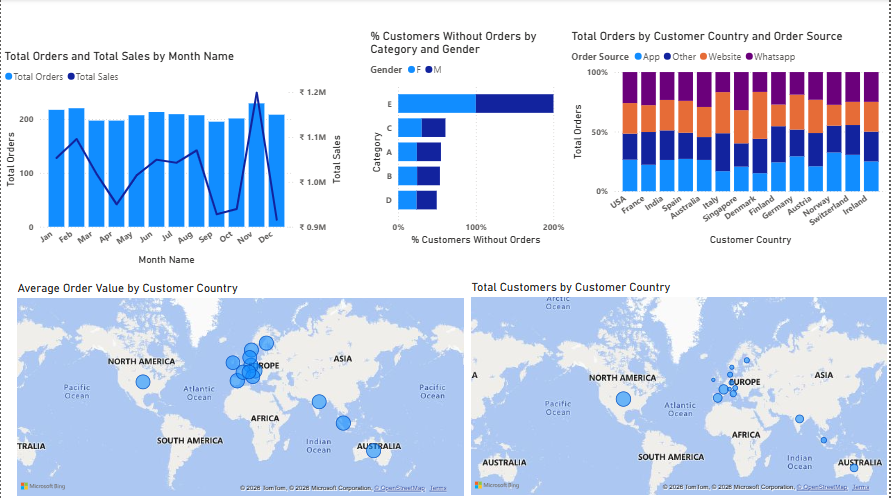

Layout of this report page (visuals, bound fields, positions):
{"tool":"powerbi","page":{"name":"Orders","canvas":[1280,720],"ordinal":2},"visuals":[{"type":"lineClusteredColumnComboChart","fields":{"Category":["Orders.Month Name"],"Y":["Measures_List.Total Orders"],"Y2":["Measures_List.Total Sales"]},"box":[0,71.8,495,316.3],"z":0},{"type":"map","fields":{"Category":["Customers.Customer Country"],"Size":["Measures_List.Average Order Value"]},"box":[19,405.7,653.2,314.9],"z":1000},{"type":"map","fields":{"Category":["Customers.Customer Country"],"Size":["Measures_List.Total Customers"]},"box":[672,405.3,608,315.4],"z":2000},{"type":"barChart","fields":{"Category":["Customers.Category"],"Series":["Customers.Gender"],"Y":["Measures_List.% Customers Without Orders"]},"box":[527.2,42.7,289.5,317],"z":3000},{"type":"hundredPercentStackedColumnChart","fields":{"Category":["Customers.Customer Country"],"Series":["Orders.Order Source"],"Y":["Measures_List.Total Orders"]},"box":[816.8,42.7,463.2,317],"z":4000}]}

Visuals, with their boxes in screenshot pixels (x1, y1, x2, y2), scaled from the page's 1280x720 canvas onto the 891x499 screenshot:
lineClusteredColumnComboChart - Orders.Month Name x Measures_List.Total Orders: [x1=0, y1=50, x2=345, y2=269]
map - Customers.Customer Country x Measures_List.Average Order Value: [x1=13, y1=281, x2=468, y2=498]
map - Customers.Customer Country x Measures_List.Total Customers: [x1=468, y1=281, x2=890, y2=498]
barChart - Customers.Category x Customers.Gender: [x1=367, y1=30, x2=568, y2=249]
hundredPercentStackedColumnChart - Customers.Customer Country x Orders.Order Source: [x1=569, y1=30, x2=890, y2=249]
